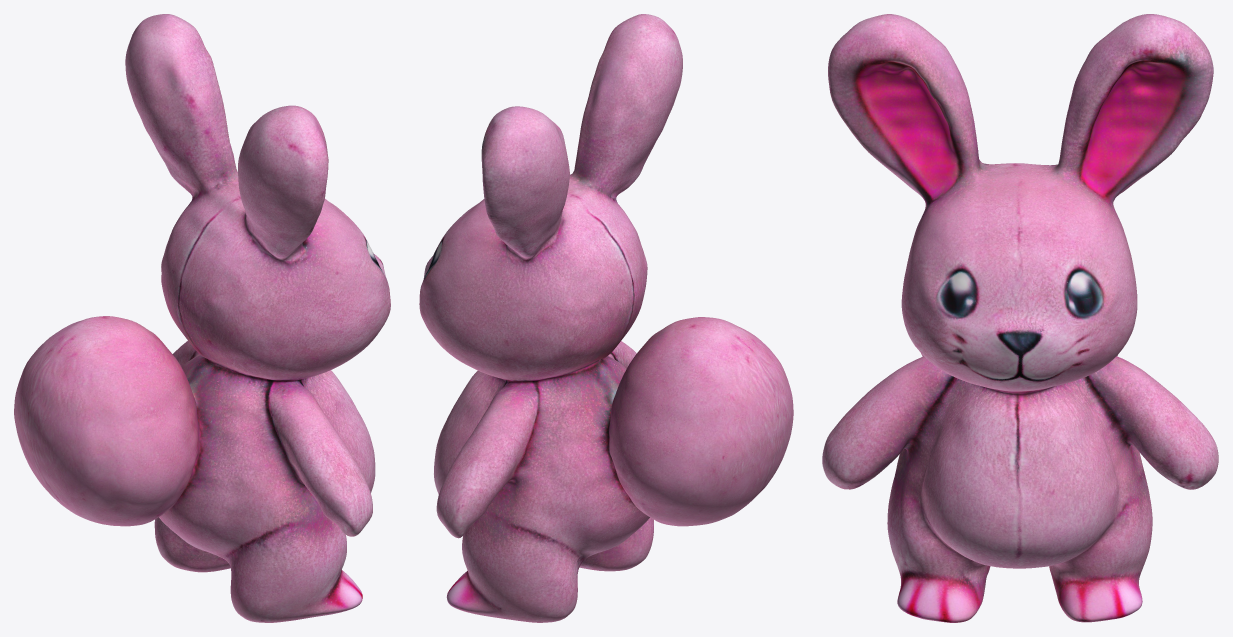
The model's file is a cute fluffy pink rabbit (1).glb.
The picture shows the model from 3 angles, left to right: view 1: azimuth 30°, elevation 25°; view 2: azimuth 150°, elevation 25°; view 3: azimuth 270°, elevation 25°; orthographic projection. The views are drawn at different scales.
Visible parts, largest first — view 1: model; view 2: model; view 3: model.
Part boxes in pixels (x1,y1,x2,y2): model: (14,14,390,622); model: (419,14,793,622); model: (822,14,1218,622).
Bounding box in the file's own units: 1.17 × 1.7 × 1.08.
Materials: 1 (1 with a texture image).
